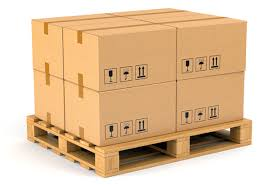box: (99, 79, 177, 145), (98, 28, 176, 91), (176, 20, 247, 83), (177, 71, 244, 130), (63, 79, 98, 149), (63, 27, 98, 91), (31, 20, 63, 80), (33, 67, 63, 131)
pallet: (25, 115, 253, 178)
